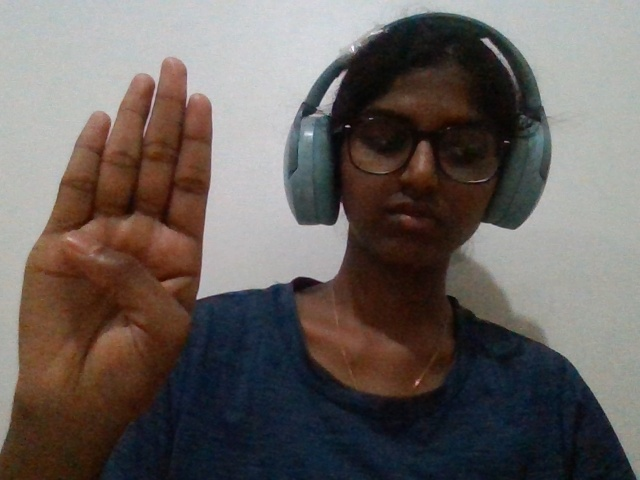B: (6, 44, 232, 462)
